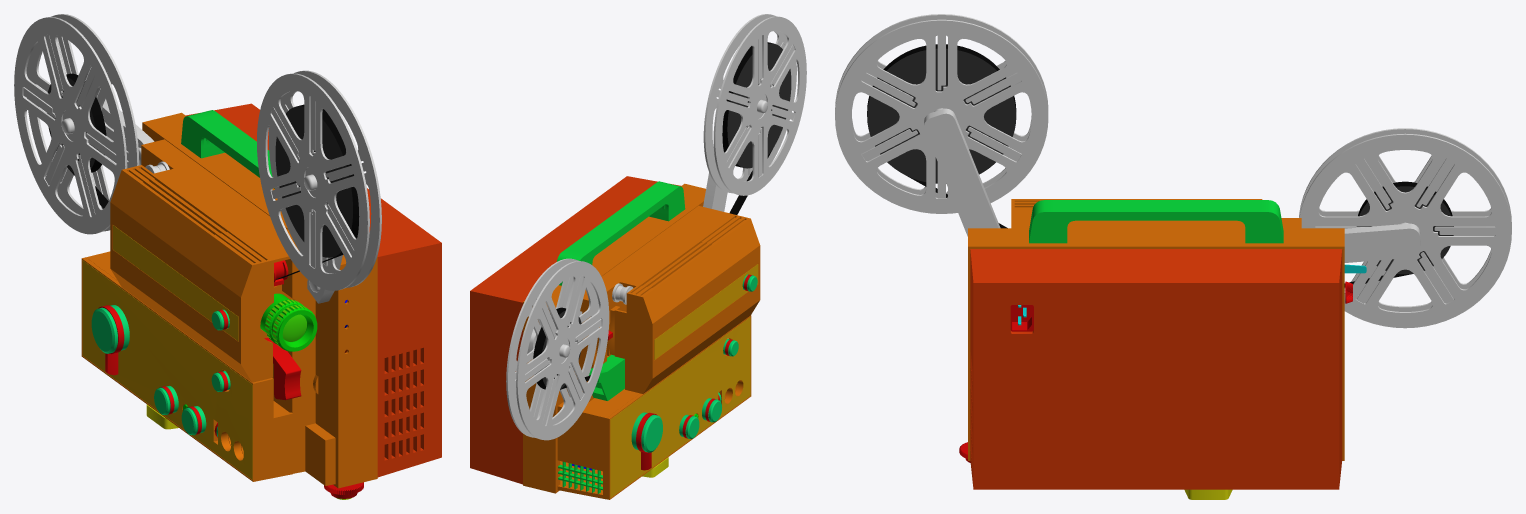
The model's file is #Projector.fbx.
3 renders of one model, left to right at view 1: azimuth 30°, elevation 25°; view 2: azimuth 150°, elevation 25°; view 3: azimuth 270°, elevation 25°, orthographic. The views are drawn at different scales.
Visible parts, largest first — view 1: #VPL0002_Body, #VPL0002_Reel.001, #VPL0002_Reel.002, #VPL0002_Film, #VPL0002_Main_Switch, #VPL0002_Volume_Control, #VPL0002_Mix_Control, #VPL0002_Reel_Arm.002; view 2: #VPL0002_Body, #VPL0002_Reel.001, #VPL0002_Reel.002, #VPL0002_Film, #VPL0002_Main_Switch, #VPL0002_Reel_Arm.001, #VPL0002_Volume_Control, #VPL0002_Mix_Control; view 3: #VPL0002_Body, #VPL0002_Reel.002, #VPL0002_Reel.001, #VPL0002_Film, #VPL0002_Reel_Arm.001, #VPL0002_Reel_Arm.002.
Boxes of the visible parts, x1=… form: #VPL0002_Body: x1=81, y1=103, x2=441, y2=499; #VPL0002_Reel.001: x1=14, y1=14, x2=139, y2=234; #VPL0002_Reel.002: x1=257, y1=70, x2=381, y2=290; #VPL0002_Film: x1=47, y1=73, x2=359, y2=279; #VPL0002_Main_Switch: x1=91, y1=305, x2=129, y2=375; #VPL0002_Volume_Control: x1=154, y1=385, x2=178, y2=414; #VPL0002_Mix_Control: x1=181, y1=406, x2=206, y2=435; #VPL0002_Reel_Arm.002: x1=102, y1=99, x2=154, y2=165; #VPL0002_Body: x1=470, y1=176, x2=760, y2=499; #VPL0002_Reel.001: x1=506, y1=258, x2=609, y2=440; #VPL0002_Reel.002: x1=703, y1=14, x2=806, y2=195; #VPL0002_Film: x1=533, y1=42, x2=791, y2=389; #VPL0002_Main_Switch: x1=631, y1=412, x2=662, y2=470; #VPL0002_Reel_Arm.001: x1=703, y1=172, x2=727, y2=211; #VPL0002_Volume_Control: x1=679, y1=414, x2=699, y2=438; #VPL0002_Mix_Control: x1=702, y1=398, x2=721, y2=422; #VPL0002_Body: x1=959, y1=199, x2=1366, y2=499; #VPL0002_Reel.002: x1=835, y1=14, x2=1048, y2=213; #VPL0002_Reel.001: x1=1299, y1=128, x2=1511, y2=328; #VPL0002_Film: x1=867, y1=44, x2=1453, y2=287; #VPL0002_Reel_Arm.001: x1=924, y1=108, x2=1000, y2=236; #VPL0002_Reel_Arm.002: x1=1344, y1=223, x2=1420, y2=262.
Bounding box in the file's own units: 0.1757 × 0.3898 × 0.5645.
